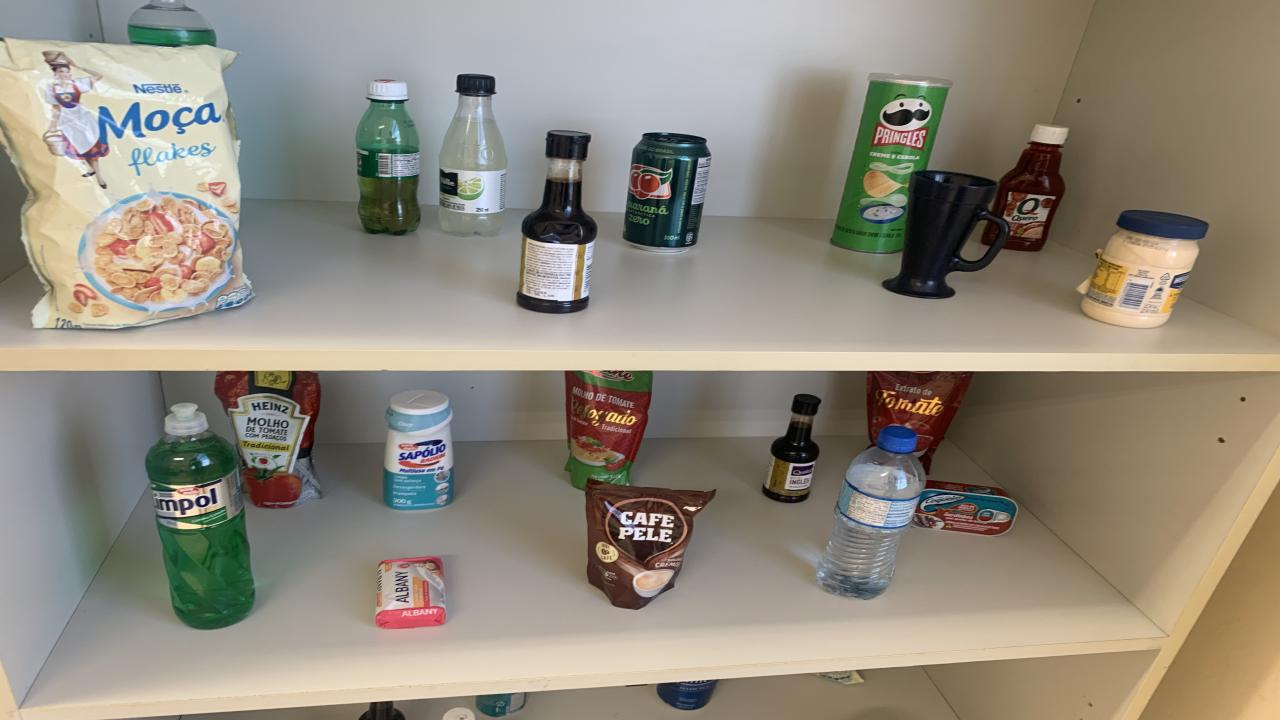Cleaner-Cleanup_Items: (382, 390, 452, 510)
Coffee-Pantry_Items: (585, 478, 715, 609)
Detergent-Cleanup_Items: (145, 403, 255, 628), (128, 0, 218, 47)
English_Sauce-Pantry_Items: (518, 129, 598, 313), (762, 394, 820, 502), (358, 701, 405, 720)
Flakes-Snacks: (0, 39, 252, 328)
Guarana-Drinks: (355, 79, 420, 234)
Guarana_Can-Drinks: (622, 133, 710, 251)
Ketchup-Pantry_Items: (992, 124, 1070, 251)
Mayonnaise-Pantry_Items: (1080, 210, 1208, 328)
Pringles-Snacks: (832, 73, 950, 253)
Soap-Cleanup_Items: (375, 557, 445, 628)
Soda-Drinks: (440, 75, 508, 236)
Tea-Drinks: (475, 692, 525, 716)
Tomato_Sauce-Pantry_Items: (215, 371, 322, 508), (868, 371, 972, 474), (565, 371, 652, 489)
Tonic-Drinks: (658, 679, 718, 711)
Tuna_Can-Pantry_Items: (912, 480, 1018, 536)
Water_Bottle-Drinks: (818, 426, 925, 600)
